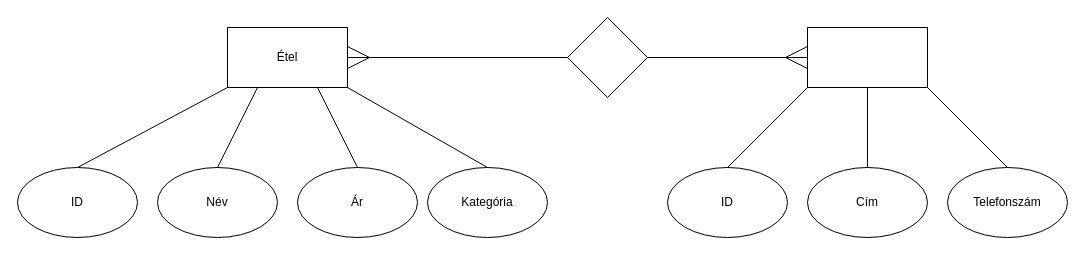
Some shapes in this 1085 by 255 pixel diagram are drawn without their labels. The shapes that lost their labels are listed below. From the top down, each one's centre as x and y in pixels, then its label:
At (607,57): "Rendelt".
At (867,57): "Megrendelő".
